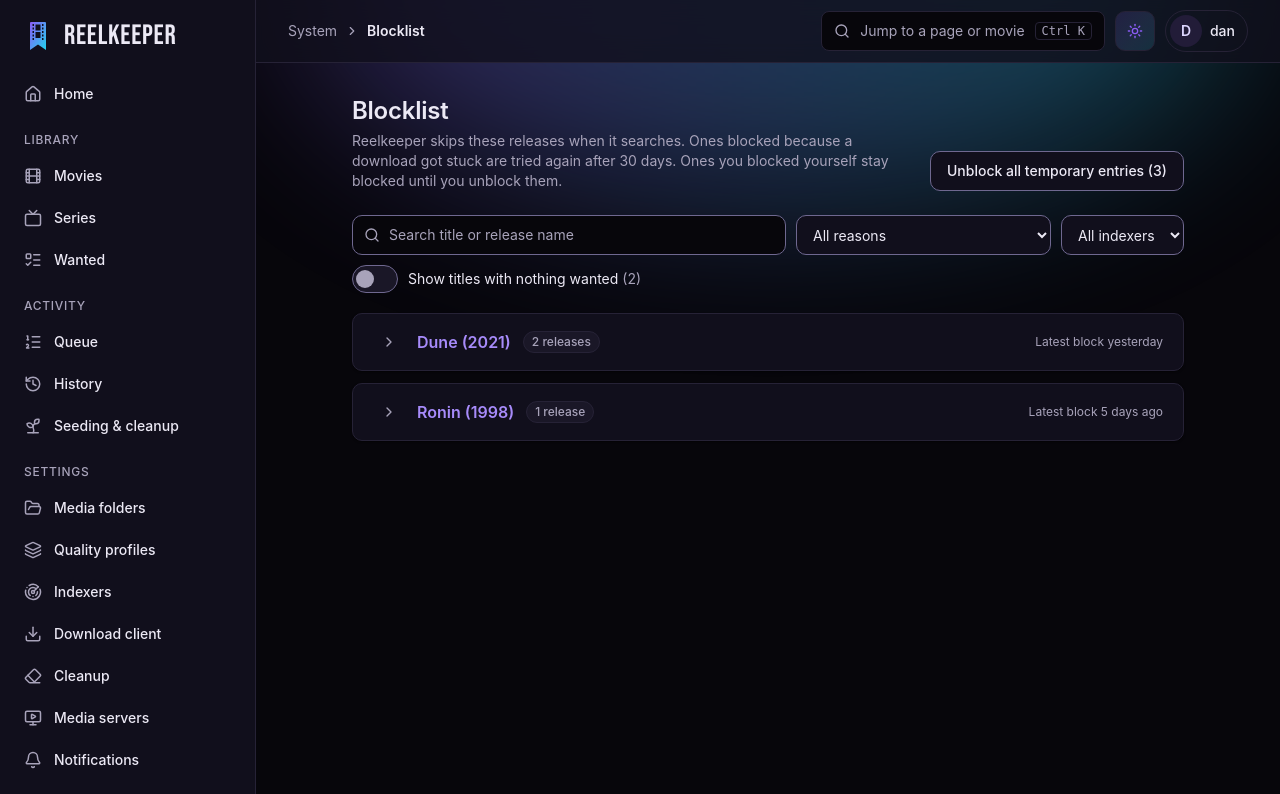
Test case: blocklist page › filters by reason
The image size is (1280, 794).
Select "Tracker deleted it" in the dropdown named "Reason": [924, 235] box [796,215,1051,255]
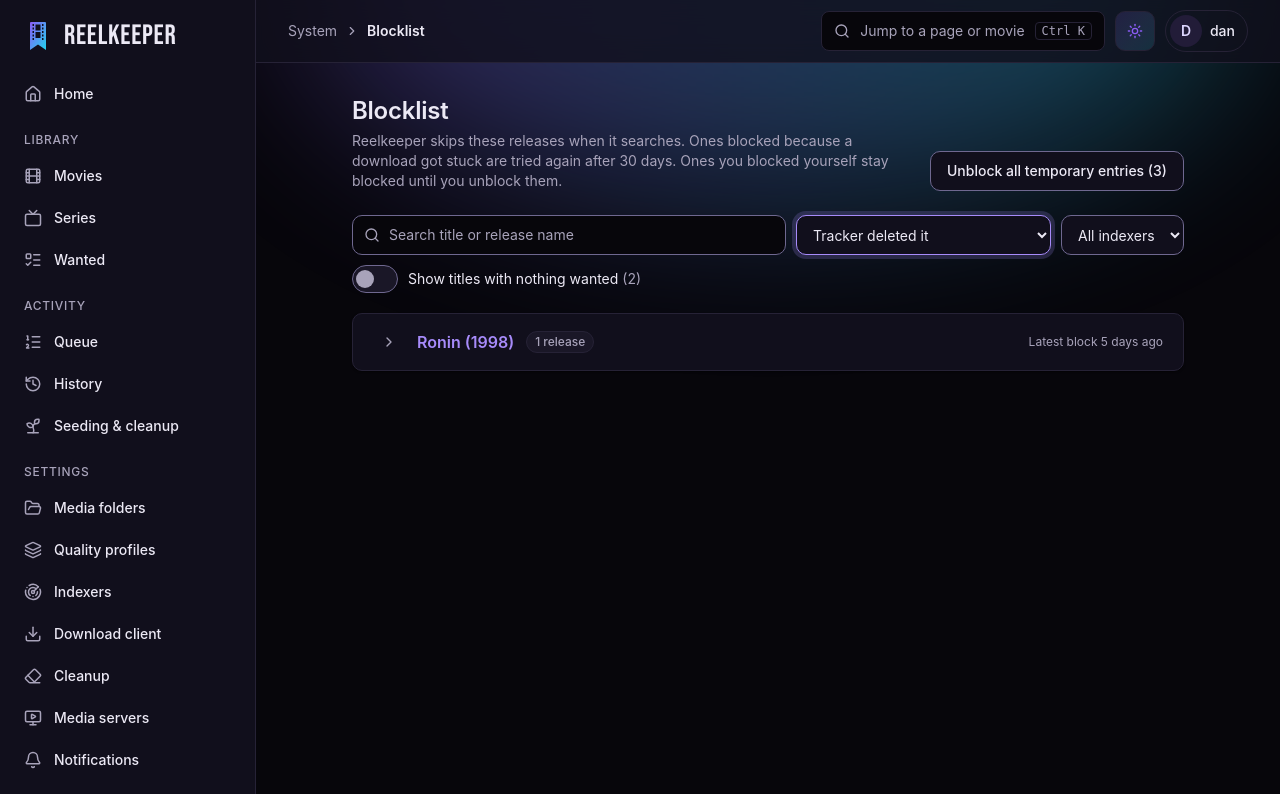
Expected: the link "Ronin (1998)" is shown, [417,332,514,352]
Now the link "Dune (2021)" is gone
Select "Removed by you" in the dropdown named "Reason": [924, 235] box [796,215,1051,255]
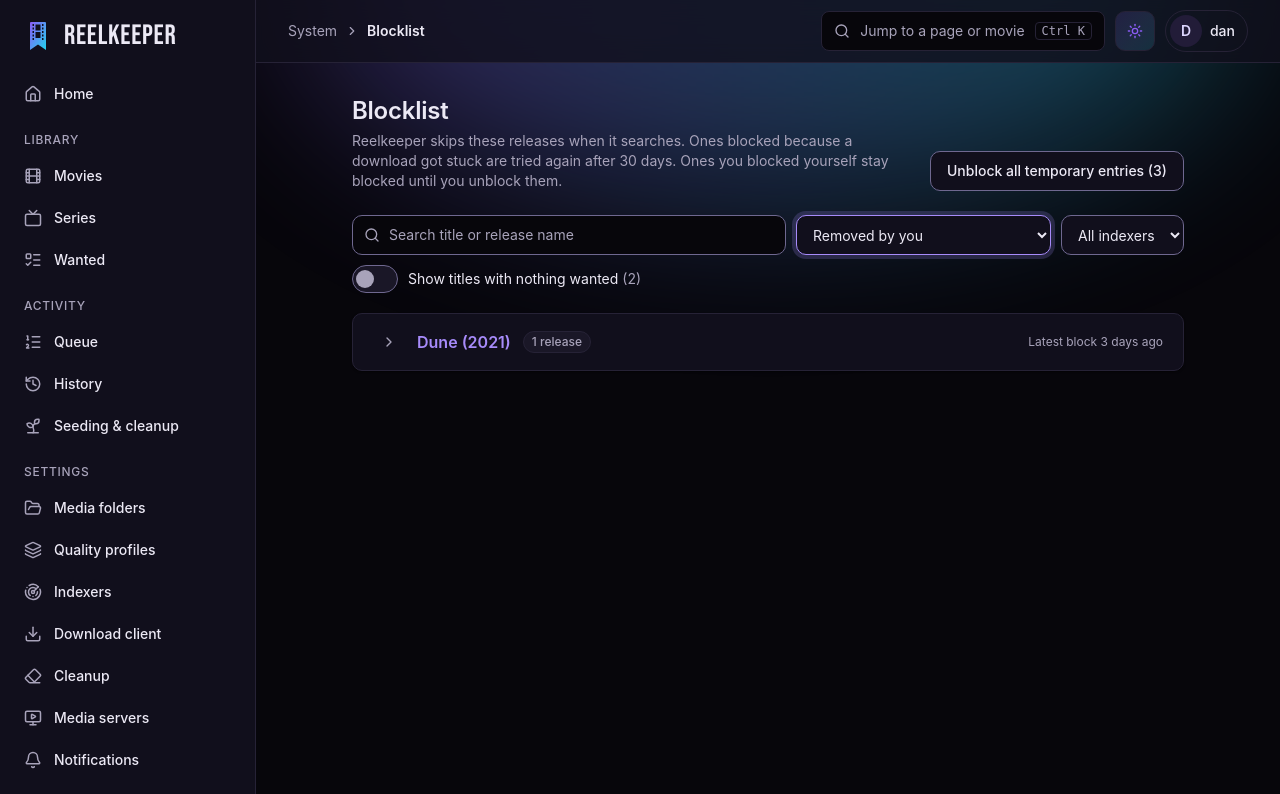
Expected: the text "1 release" is shown, [523,331,591,353]
Now the link "Dune (2021)" is shown, box [417,332,511,352]
Now the link "Ronin (1998)" is gone
Select "Stuck downloads" in the dropdown named "Reason": [924, 235] box [796,215,1051,255]
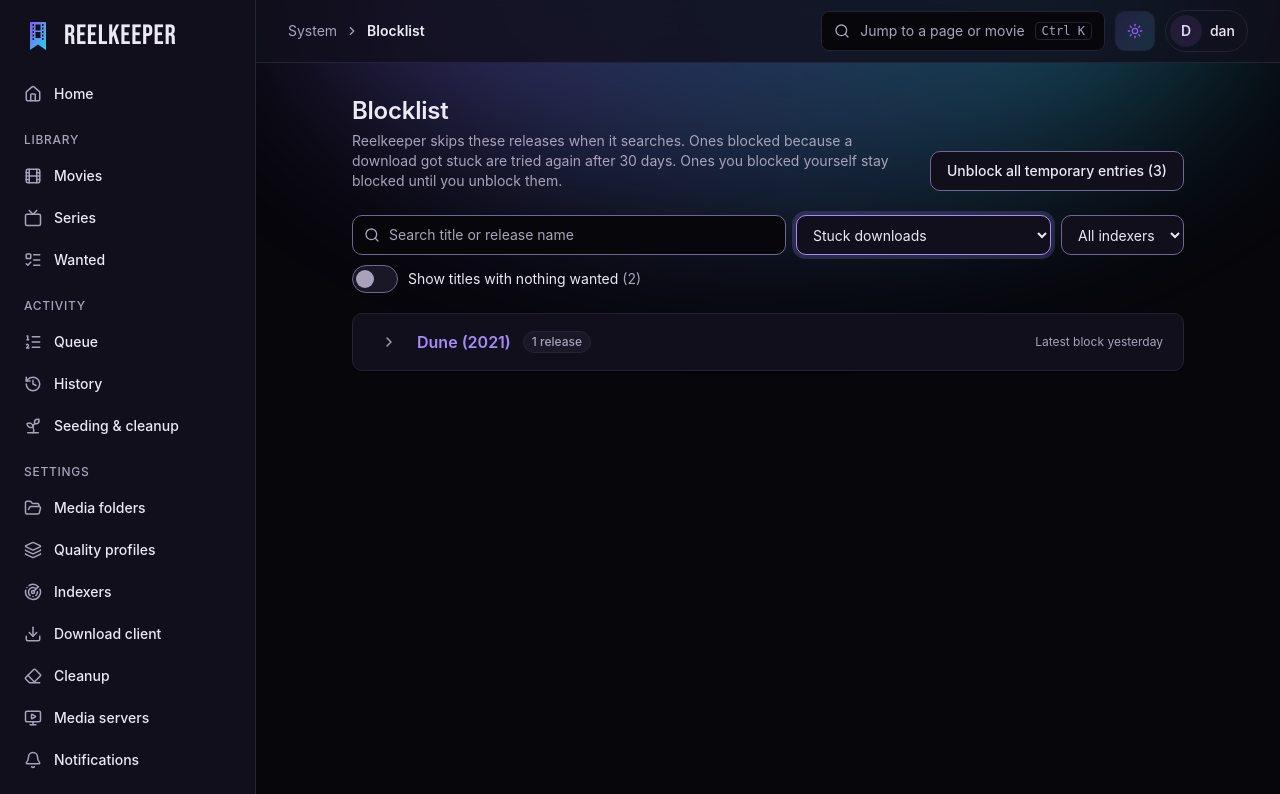
Expected: the link "Ronin (1998)" is not shown
Now the link "Dune (2021)" is shown, box [417,332,511,352]
Select "All reasons" in the dropdown named "Reason": [924, 235] box [796,215,1051,255]
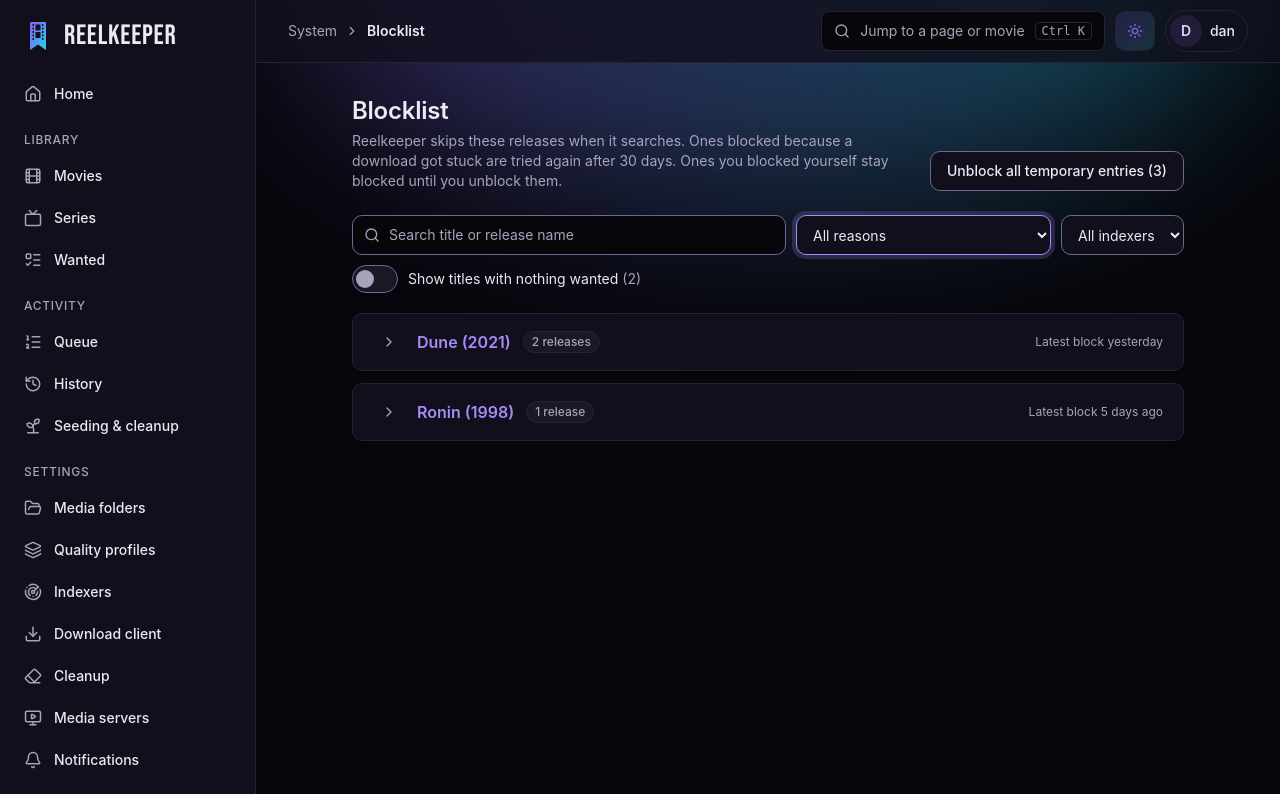
Now the link "Ronin (1998)" is shown, box [417,402,514,422]
